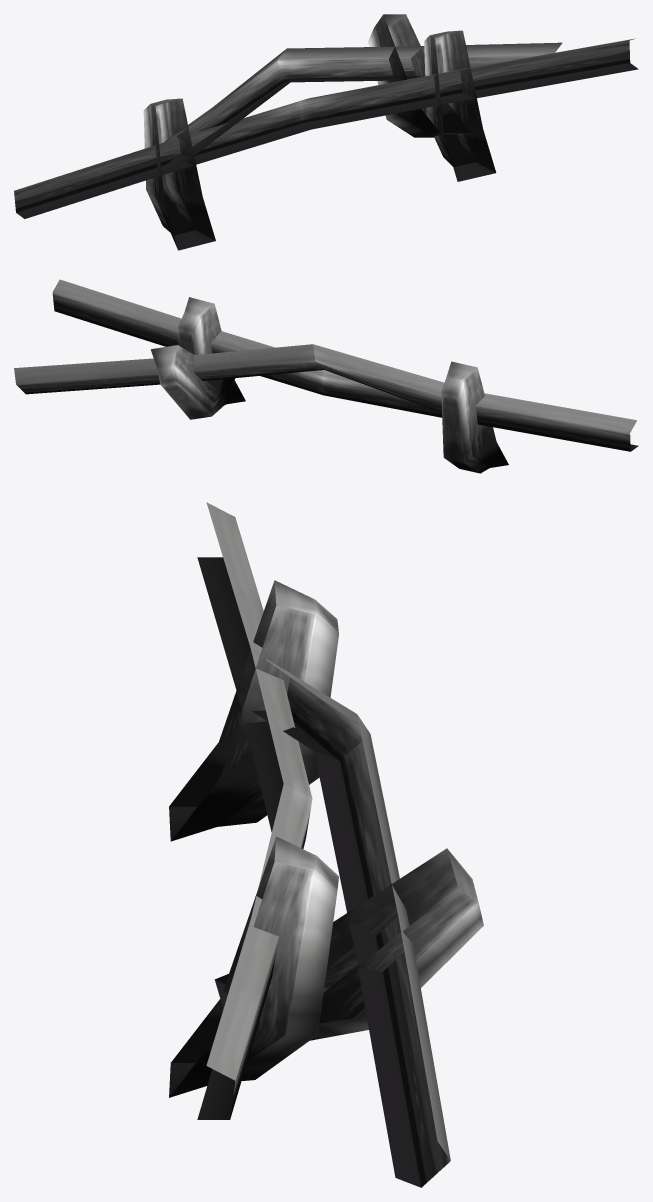
File: fbmp_lr_bl2.glb
3 views of the same model, one above another, from view 1: azimuth 30°, elevation 25°; view 2: azimuth 150°, elevation 25°; view 3: azimuth 270°, elevation 25° (orthographic). The views are drawn at different scales.
Visible parts, largest first — view 1: fbmp_lr_bl2, fbmp_lr_bl2_dam; view 2: fbmp_lr_bl2, fbmp_lr_bl2_dam; view 3: fbmp_lr_bl2, fbmp_lr_bl2_dam.
Boxes of the visible parts, x1,y1,x2,y2 form: fbmp_lr_bl2: (14, 30, 638, 250); fbmp_lr_bl2_dam: (164, 14, 562, 171); fbmp_lr_bl2: (52, 279, 638, 473); fbmp_lr_bl2_dam: (14, 344, 444, 419); fbmp_lr_bl2: (169, 502, 338, 1119); fbmp_lr_bl2_dam: (214, 650, 483, 1187).
Size of the model in its own units: 2 by 0.3934 by 0.4721.
1 material, 1 textured.
